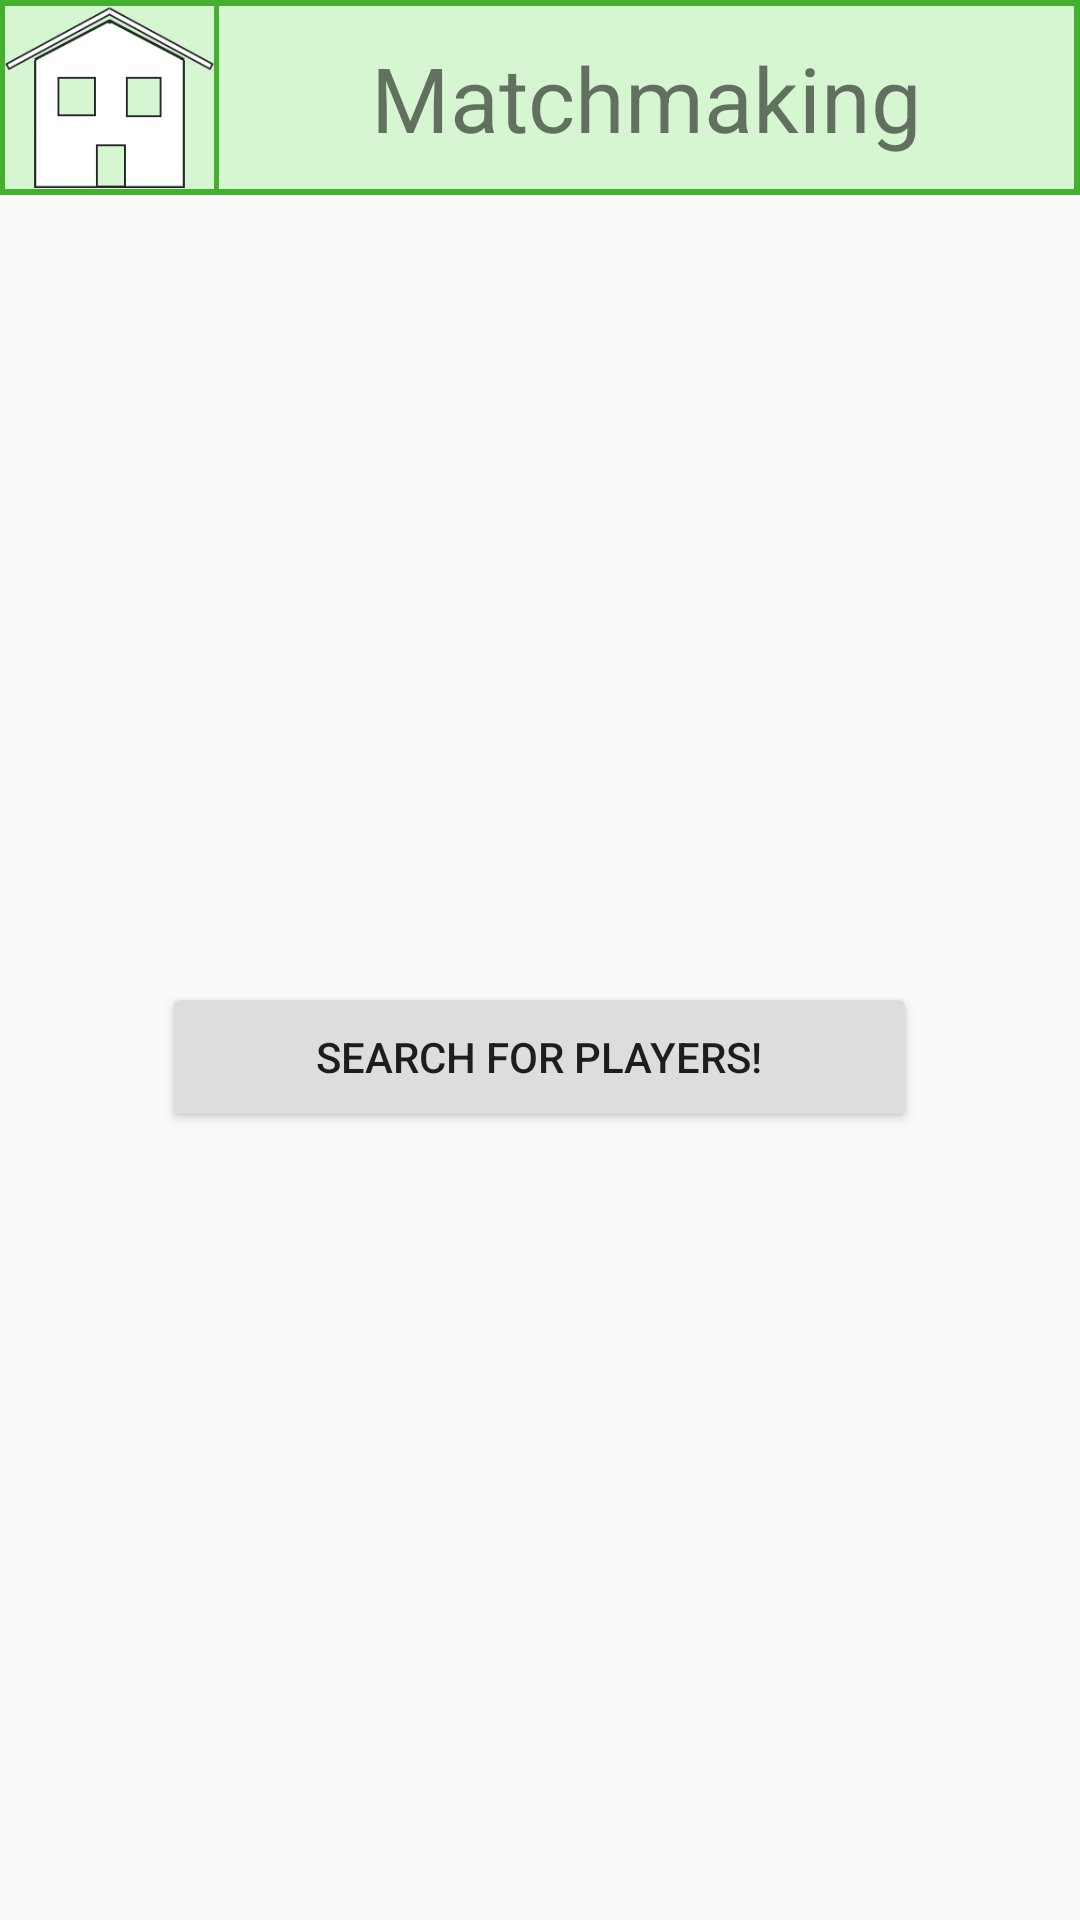

Locate icon controls on the screen. Image size 1080 × 1920, boxes as (x1, y1, x2, y2).
homebutton: (5, 6, 214, 189)
